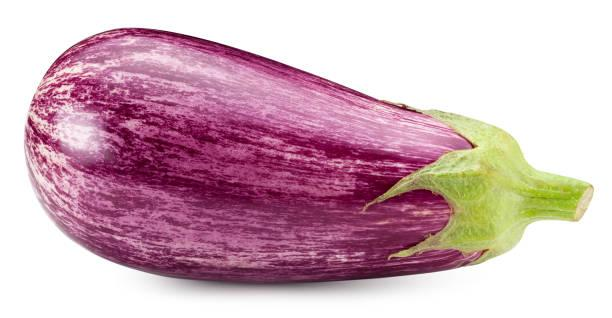Brinjal: (22, 24, 594, 285)
